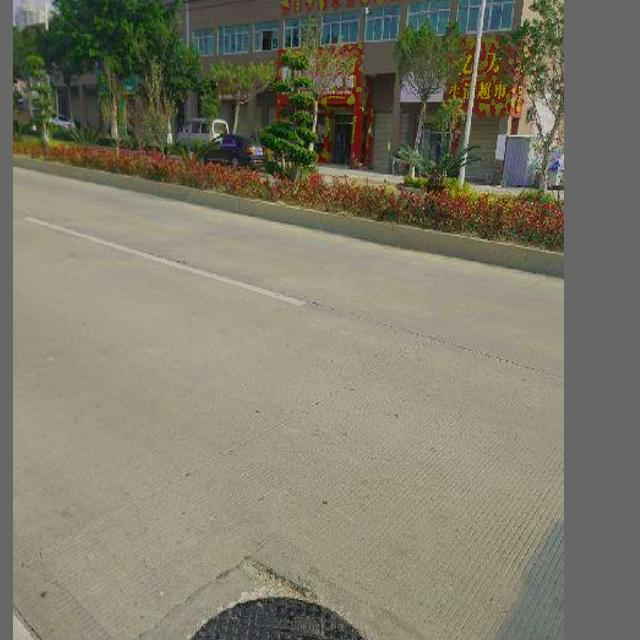good: (85, 552, 464, 640)
